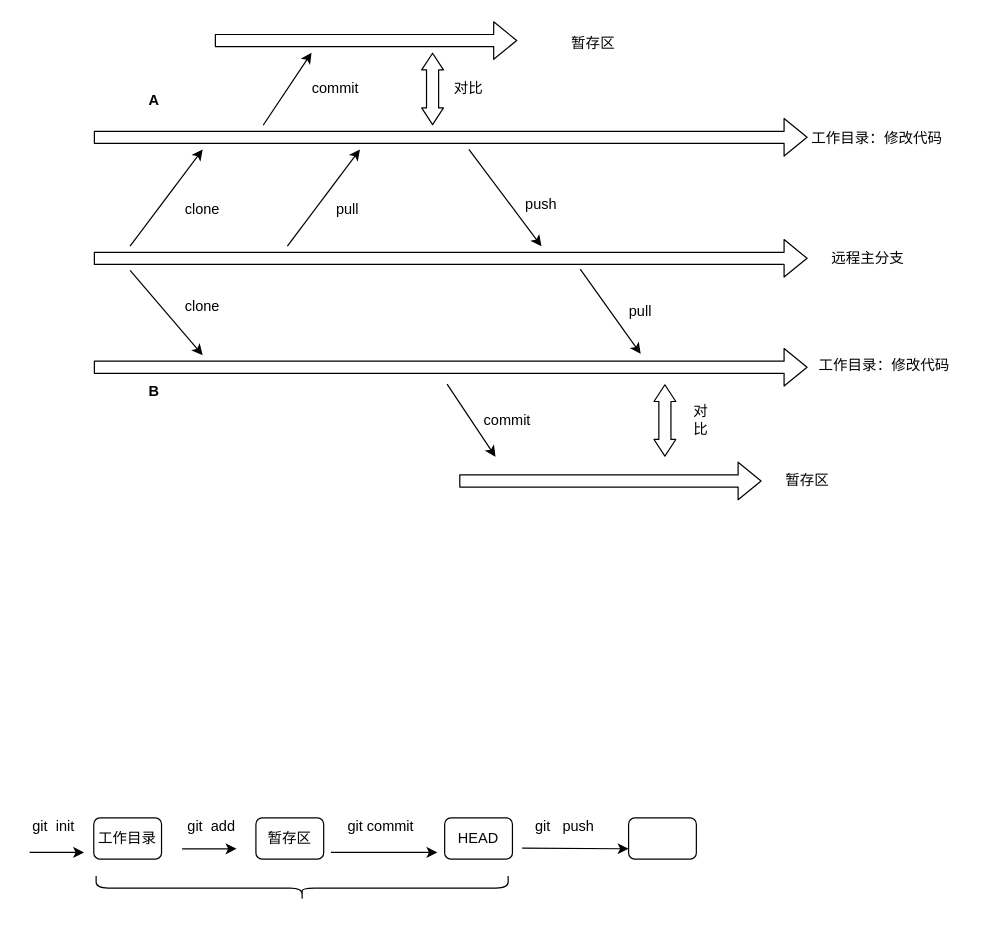
The diagram is 983 pixels wide and 952 high, and some of its shapes have lost their labels. Here are the shapes that lost their labels. From the top down, the centre of each, then its label:
pixel 661 838: 远程分支
pixel 301 887: 本地仓库
